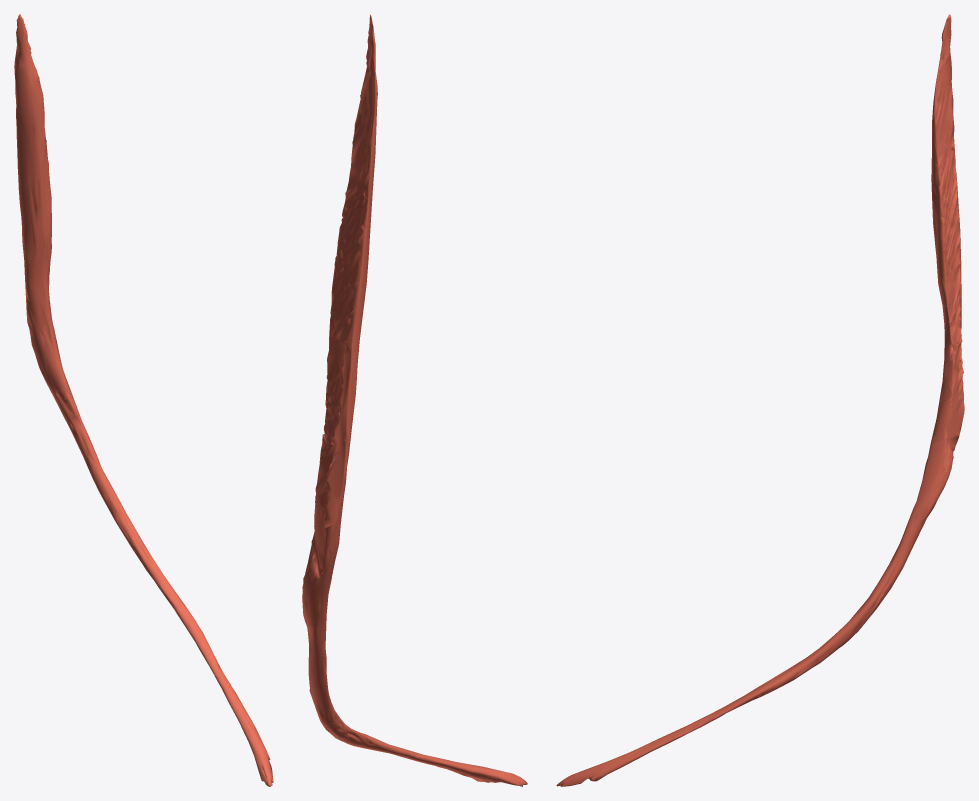
File: extensor-hallucis-longus.glb
3 renders of one model, left to right at view 1: azimuth 30°, elevation 25°; view 2: azimuth 150°, elevation 25°; view 3: azimuth 270°, elevation 25°, orthographic. The views are drawn at different scales.
Parts seen in each view (by area): view 1: Extensor hallucis longus.r; view 2: Extensor hallucis longus.r; view 3: Extensor hallucis longus.r.
Boxes of the visible parts, box(x1,y1,x2,y2) form: Extensor hallucis longus.r: box(14, 14, 273, 786); Extensor hallucis longus.r: box(302, 14, 527, 786); Extensor hallucis longus.r: box(556, 14, 964, 786).
Bounding box in the file's own units: 0.0428 × 0.2805 × 0.1418.
